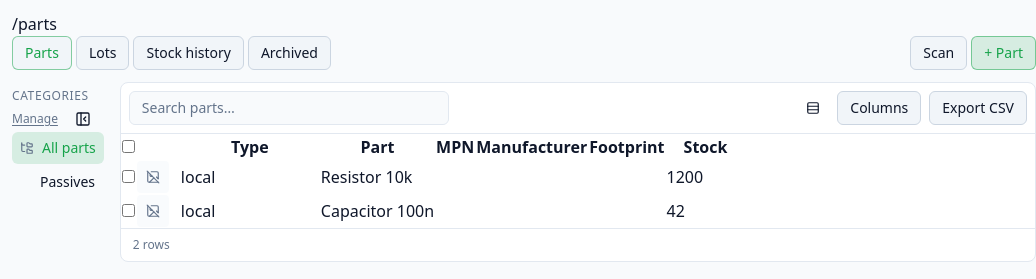
Test case: parts category rail collapse › collapsing hides the tree but keeps a named way back
Click the button named "Hide categories" at point(83, 119), box [66,106,100,132]
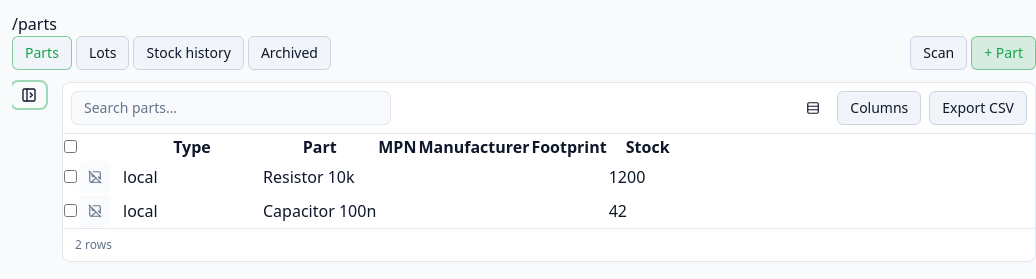
expect the button named "Show categories" is collapsed: met
expect the text "Passives" is gone: met
Click the button named "Show categories" at point(29, 95), box [12,82,46,108]
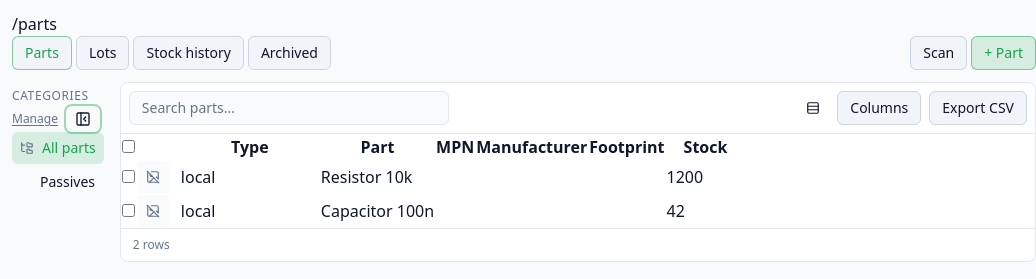
expect the list item "Passives" is shown: met, box [40,172,95,191]
